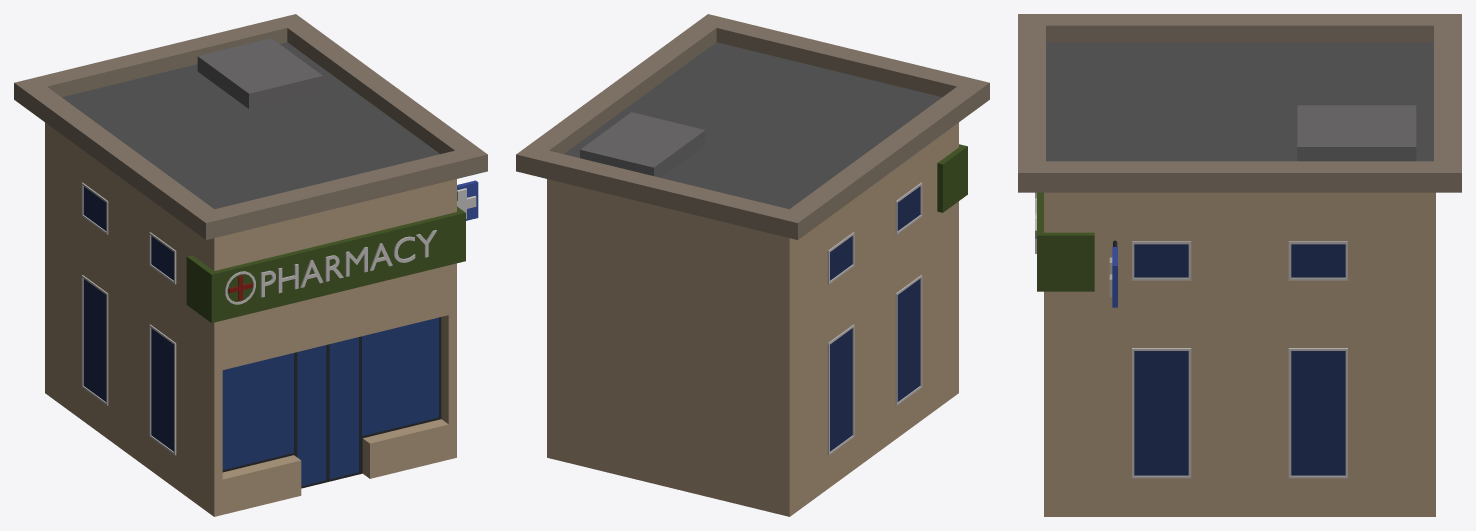
Rendered from PharmacyBuilding_1.fbx.
3 renders of one model, left to right at view 1: azimuth 30°, elevation 25°; view 2: azimuth 150°, elevation 25°; view 3: azimuth 270°, elevation 25°, orthographic. The views are drawn at different scales.
Parts seen in each view (by area): view 1: PharmacyBuilding_1; view 2: PharmacyBuilding_1; view 3: PharmacyBuilding_1.
Boxes of the visible parts, box(x1,y1,x2,y2) form: PharmacyBuilding_1: box(14, 14, 487, 516); PharmacyBuilding_1: box(516, 14, 989, 516); PharmacyBuilding_1: box(1018, 14, 1461, 516).
Size of the model in its own units: 800 by 752 by 850.
